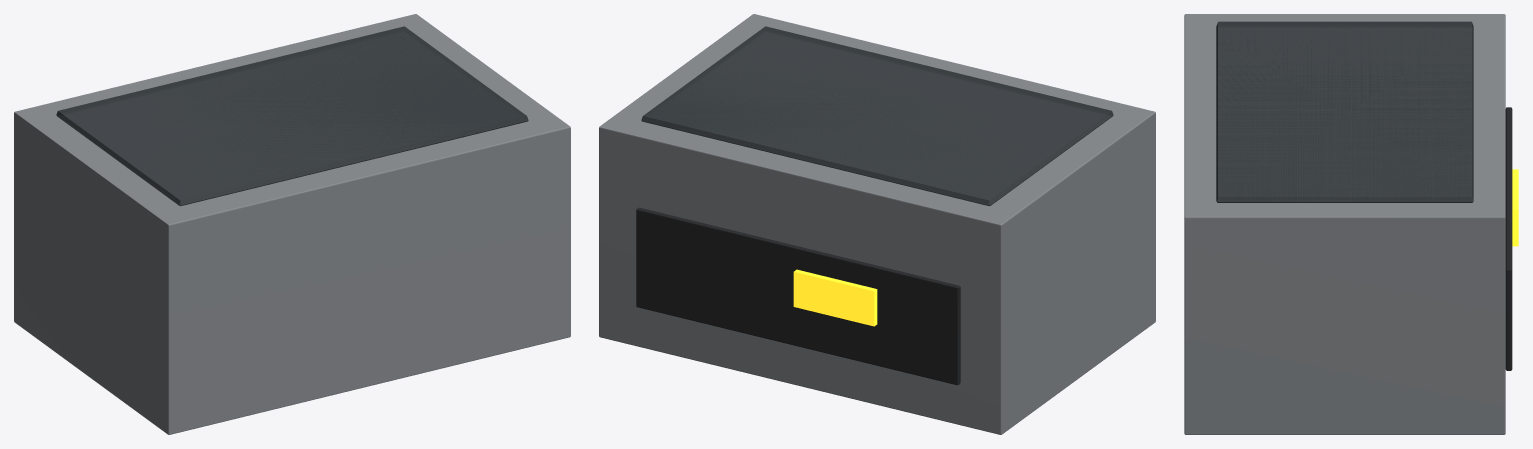
The model's file is prop_ultrasonic_cleaner.glb.
3 renders of one model, left to right at view 1: azimuth 30°, elevation 25°; view 2: azimuth 150°, elevation 25°; view 3: azimuth 270°, elevation 25°, orthographic. The views are drawn at different scales.
Visible parts, largest first — view 1: Cleaner; view 2: Cleaner; view 3: Cleaner.
Boxes of the visible parts, left/top/right/bottom form: Cleaner: left=14, top=14, right=570, bottom=434; Cleaner: left=599, top=14, right=1155, bottom=434; Cleaner: left=1184, top=14, right=1518, bottom=434.
Size of the model in its own units: 0.3 by 0.154 by 0.208.
